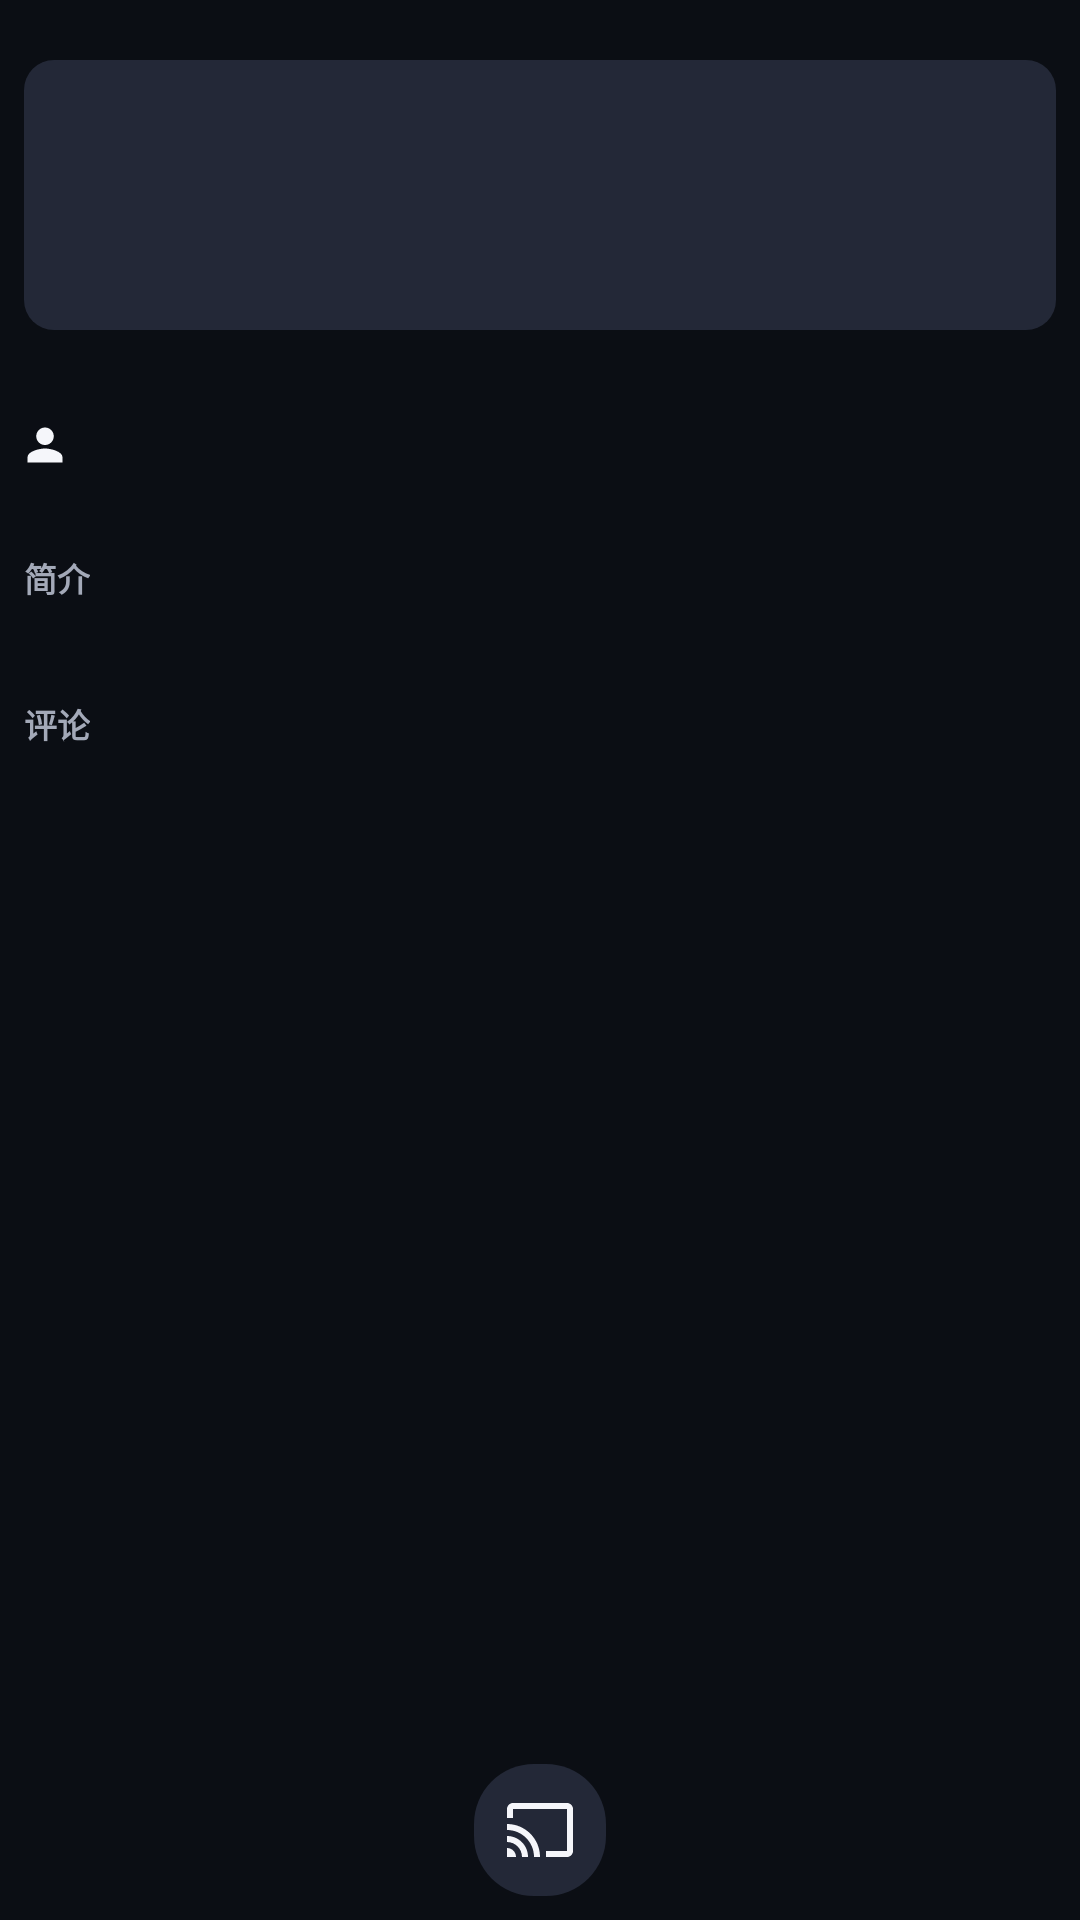

Icons on this 1080w x 1920h Android screen, each with its box as (x1, y1, x2, y2):
profile: (27, 427, 63, 463)
投屏播放: (474, 1764, 606, 1896)
